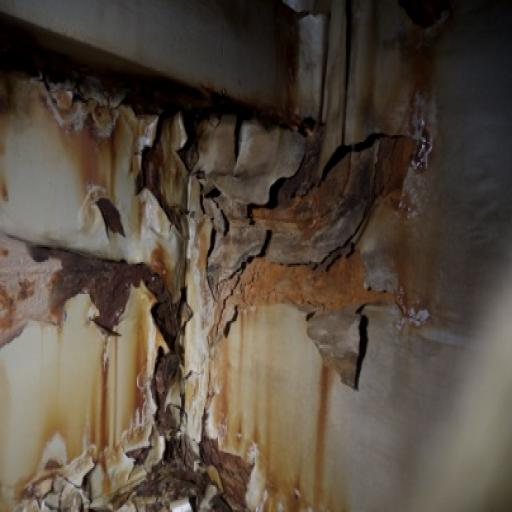Detect-rust-on-metal-surfaces: (1, 5, 454, 510)
